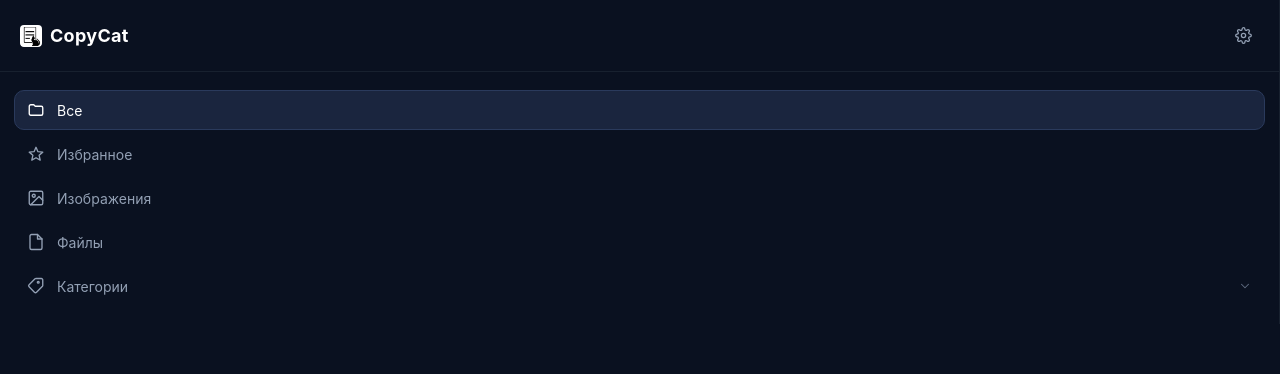
Sidebar › keeps categories collapsed until the selector is opened
This screenshot has width=1280, height=374.
Expected: the text "работа" is not shown
Click the button "Категории": (93, 286) [15,267,1238,305]
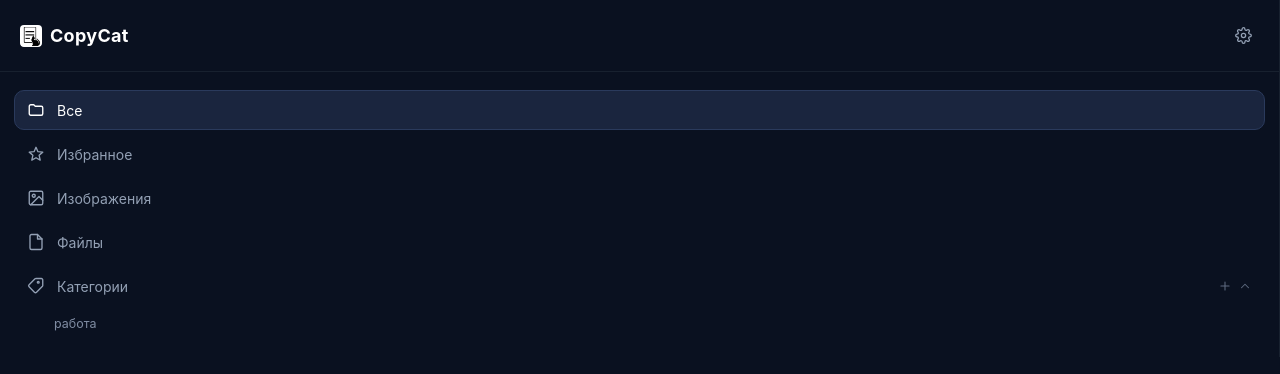
Expected: the text "работа" is shown, [54,316,97,331]
Expected: the button named "Добавить категорию" is shown, [1214,275,1236,297]
